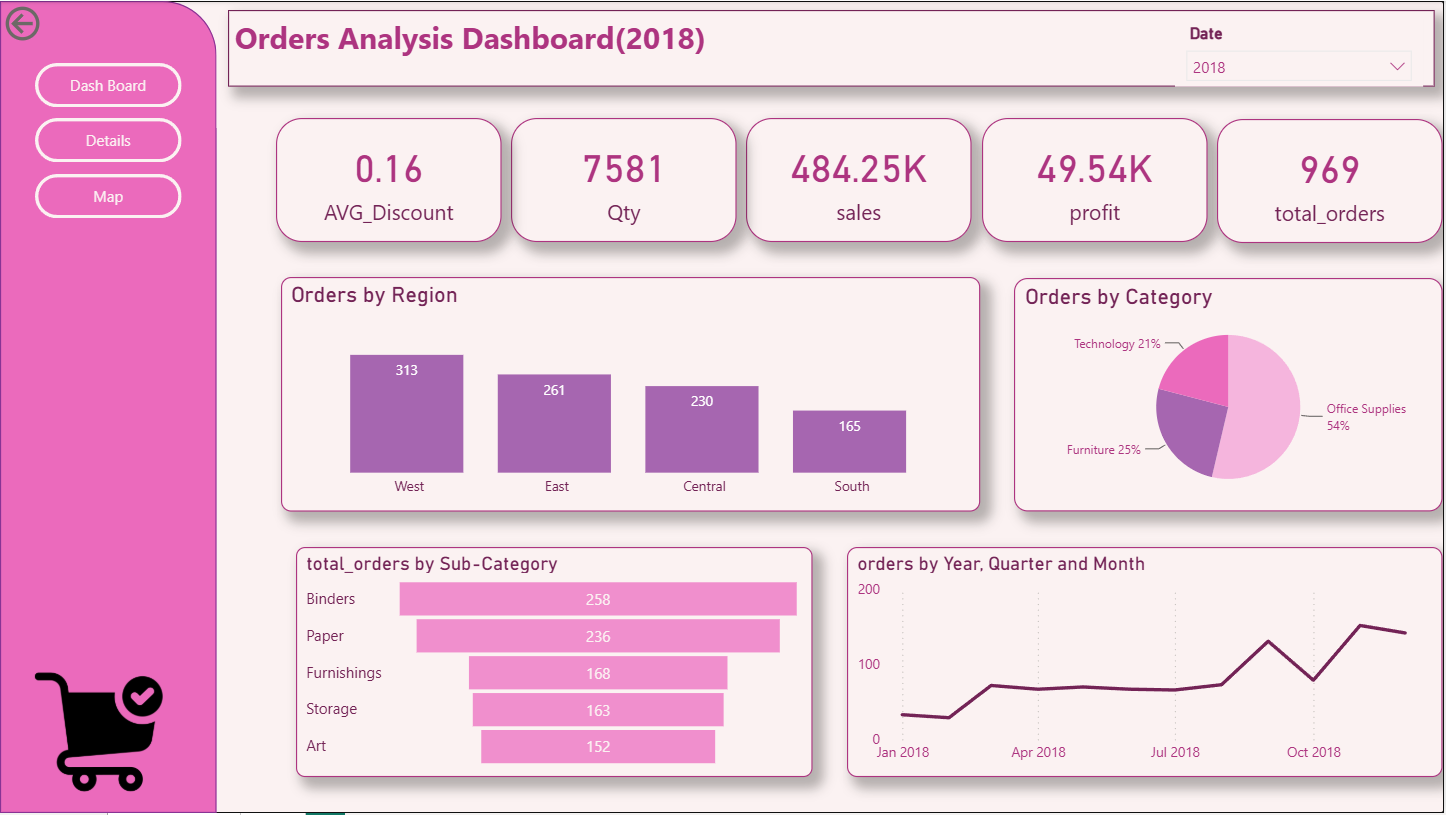

The page's visual inventory and layout, read from the dashboard file:
{"tool":"powerbi","page":{"name":"Page 1dashboard","canvas":[1280,720],"ordinal":0},"visuals":[{"type":"shape","box":[0,0,192,720],"z":0},{"type":"card","fields":{"Values":["measure.sales"]},"box":[662.1,103.8,200,110],"z":0,"group":"g1"},{"type":"actionButton","box":[30.7,55.3,130,39.3],"z":1000},{"type":"card","fields":{"Values":["measure.profit"]},"box":[870.7,103.8,200,110],"z":1000,"group":"g1"},{"type":"actionButton","box":[30.7,103.3,130,39.3],"z":2000},{"type":"card","fields":{"Values":["measure.Qty"]},"box":[453.6,103.8,200,110],"z":2000,"group":"g1"},{"type":"card","fields":{"Values":["measure.total_orders"]},"box":[1079.2,104.2,200,110],"z":3000,"group":"g1"},{"type":"actionButton","box":[30.7,153.3,130,39.3],"z":3000},{"type":"textbox","box":[202,8,1070,68],"z":4000},{"type":"card","fields":{"Values":["measure.AVG_Discount"]},"box":[245,103.8,200,110],"z":4000,"group":"g1"},{"type":"slicer","fields":{"Values":["Orders.Order Date.Variation.Date Hierarchy.Year","Orders.Order Date.Variation.Date Hierarchy.Quarter","Orders.Order Date.Variation.Date Hierarchy.Month","Orders.Order Date.Variation.Date Hierarchy.Day"]},"box":[1042.2,15.6,220,60],"z":5000},{"type":"pieChart","title":"Orders by Category","fields":{"Category":["Orders.Category"],"Y":["measure.total_orders"]},"box":[899.2,245.5,380,206.7],"z":5000,"group":"g1"},{"type":"group","id":"g1","title":"Group 1","box":[245,103.8,1035,583.8],"z":6000},{"type":"columnChart","title":"  Orders by Region","fields":{"Category":["Orders.Region"],"Y":["measure.total_orders"]},"box":[249.5,244.9,620,207.5],"z":6000,"group":"g1"},{"type":"funnel","fields":{"Category":["Orders.Sub-Category"],"Y":["measure.total_orders"]},"box":[263,483.9,458,204],"z":7000,"group":"g1"},{"type":"actionButton","box":[0,0,100,40],"z":8000},{"type":"lineChart","title":"orders by Year, Quarter and Month","fields":{"Category":["Orders.Order Date.Variation.Date Hierarchy.Year","Orders.Order Date.Variation.Date Hierarchy.Quarter","Orders.Order Date.Variation.Date Hierarchy.Month","Orders.Order Date.Variation.Date Hierarchy.Day"],"Y":["measure.total_orders"]},"box":[751,483.9,528,204],"z":8000,"group":"g1"},{"type":"image","box":[0,590,175,116.7],"z":9000}]}

Visuals, with their boxes in screenshot pixels (x1, y1, x2, y2):
shape: bbox=[8, 0, 221, 802]
card - measure.sales: bbox=[745, 116, 968, 238]
actionButton: bbox=[42, 62, 187, 105]
card - measure.profit: bbox=[978, 116, 1200, 238]
actionButton: bbox=[42, 115, 187, 159]
card - measure.Qty: bbox=[513, 116, 736, 238]
card - measure.total_orders: bbox=[1210, 116, 1433, 239]
actionButton: bbox=[42, 171, 187, 215]
textbox: bbox=[233, 9, 1425, 85]
card - measure.AVG_Discount: bbox=[280, 116, 503, 238]
slicer - Orders.Order Date.Variation.Date Hierarchy.Year x Orders.Order Date.Variation.Date Hierarchy.Quarter: bbox=[1169, 17, 1414, 84]
"Orders by Category" pieChart: bbox=[1009, 274, 1433, 504]
"Group 1" group: bbox=[280, 116, 1434, 766]
"  Orders by Region" columnChart: bbox=[285, 273, 976, 504]
funnel - Orders.Sub-Category x measure.total_orders: bbox=[301, 539, 811, 766]
actionButton: bbox=[8, 0, 119, 45]
"orders by Year, Quarter and Month" lineChart: bbox=[844, 539, 1432, 766]
image: bbox=[8, 657, 202, 787]
